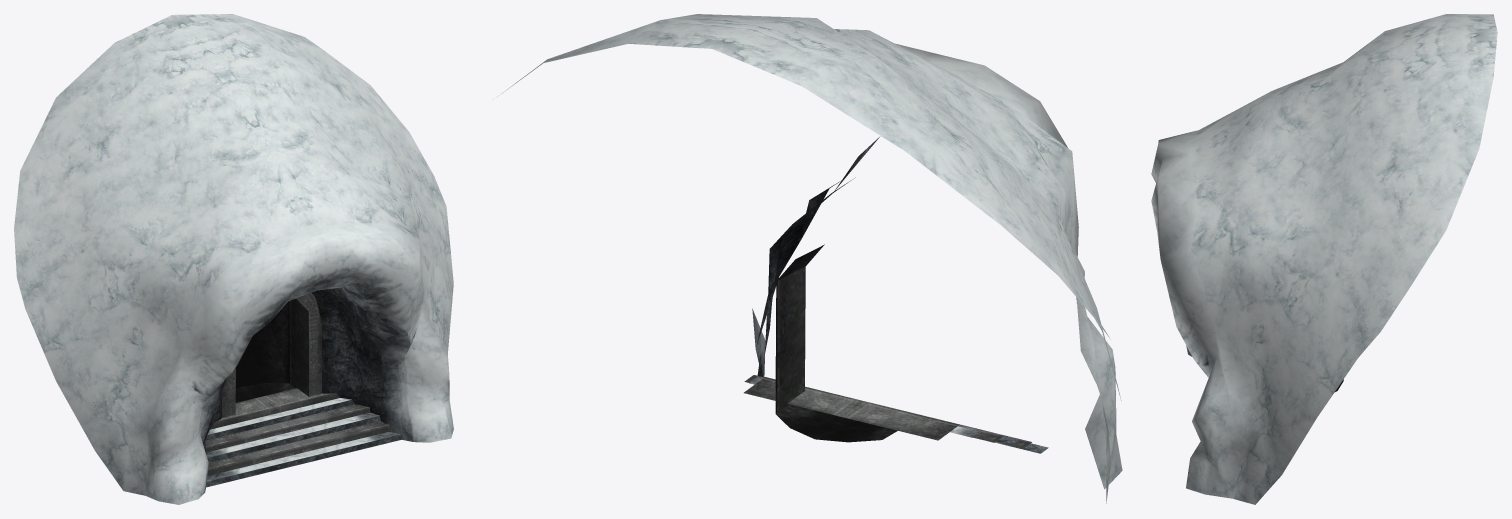
The model's file is icecrystalscave_gate.glb.
3 renders of one model, left to right at view 1: azimuth 30°, elevation 25°; view 2: azimuth 150°, elevation 25°; view 3: azimuth 270°, elevation 25°, orthographic. The views are drawn at different scales.
Visible parts, largest first — view 1: icecrystalscave_gate_rock2, icecrystalscave_gate_bilid; view 2: icecrystalscave_gate_rock2, icecrystalscave_gate_bilid; view 3: icecrystalscave_gate_rock2.
Boxes of the visible parts, box(x1,y1,x2,y2) form: icecrystalscave_gate_rock2: box(14, 14, 453, 504); icecrystalscave_gate_bilid: box(205, 293, 389, 475); icecrystalscave_gate_rock2: box(502, 14, 1122, 503); icecrystalscave_gate_bilid: box(744, 244, 1031, 448); icecrystalscave_gate_rock2: box(1151, 14, 1497, 504).
Bounding box in the file's own units: 32.4 × 26.15 × 21.18.
Materials: 3 (3 with a texture image).
